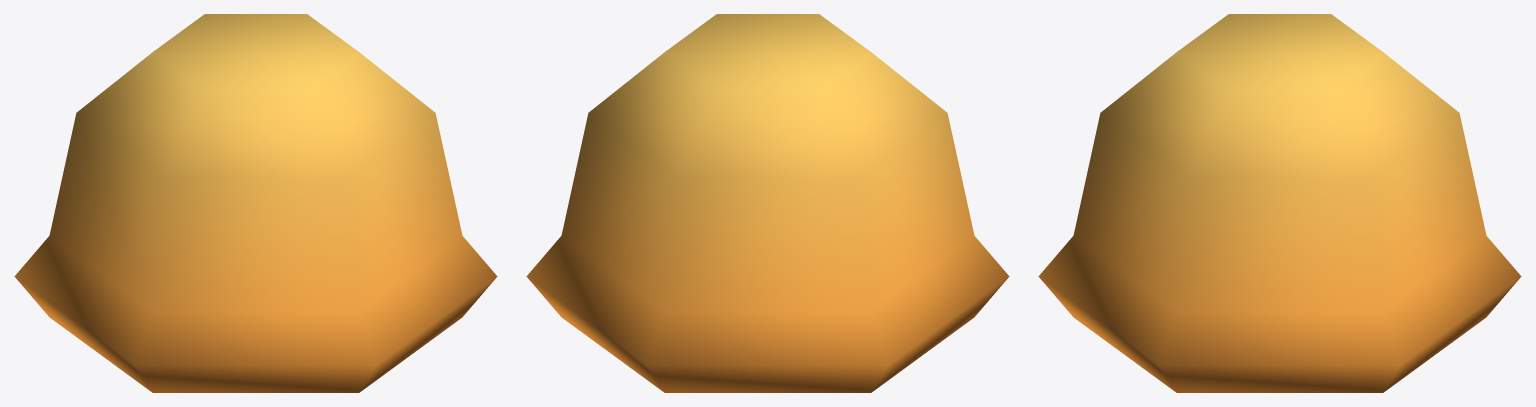
The model's file is ice-cream-scoop-mint.glb.
3 renders of one model, left to right at view 1: azimuth 30°, elevation 25°; view 2: azimuth 150°, elevation 25°; view 3: azimuth 270°, elevation 25°, orthographic.
Parts seen in each view (by area): view 1: ice-cream-scoop-mint; view 2: ice-cream-scoop-mint; view 3: ice-cream-scoop-mint.
Boxes of the visible parts, x1,y1,x2,y2 form: ice-cream-scoop-mint: (14, 14, 497, 392); ice-cream-scoop-mint: (526, 14, 1009, 392); ice-cream-scoop-mint: (1038, 14, 1521, 392).
Size of the model in its own units: 0.2352 by 0.165 by 0.2716.
Materials: 1 (1 with a texture image).
